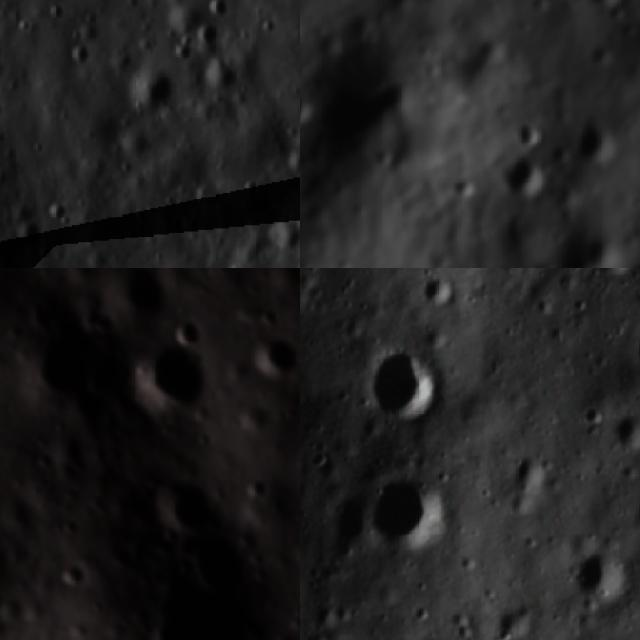crater: (358, 336, 447, 432), (16, 308, 101, 407), (362, 472, 457, 557), (144, 466, 222, 540), (136, 338, 207, 414), (184, 528, 258, 598), (314, 486, 374, 558), (564, 539, 629, 605), (124, 58, 186, 118), (570, 112, 628, 173), (108, 268, 171, 324), (496, 152, 559, 206), (245, 330, 300, 385), (413, 268, 464, 311), (472, 34, 512, 77), (47, 557, 95, 589), (13, 214, 51, 253), (612, 405, 640, 456), (509, 119, 545, 158), (64, 36, 101, 73), (398, 624, 474, 640), (42, 191, 74, 226), (582, 268, 640, 283), (300, 87, 317, 133), (575, 0, 626, 14), (286, 146, 300, 180)
